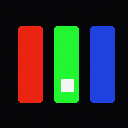1 square: (61, 79, 73, 91)
